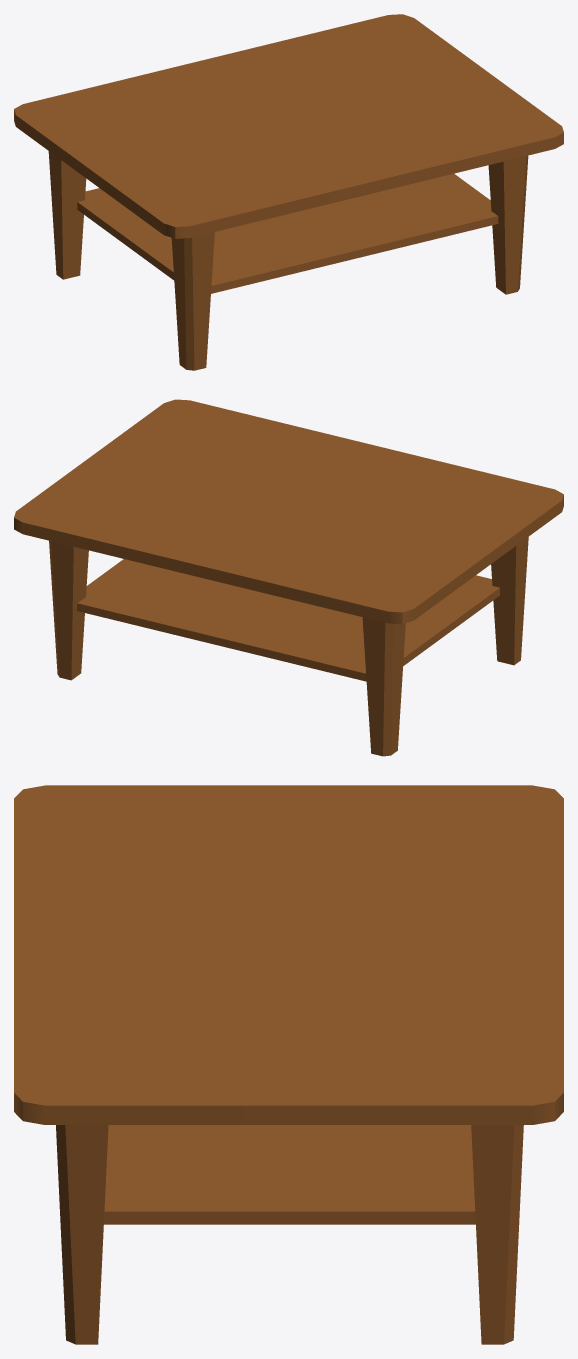
File: Coffee Table.fbx
The picture shows the model from 3 angles, top to bottom: view 1: azimuth 30°, elevation 25°; view 2: azimuth 150°, elevation 25°; view 3: azimuth 270°, elevation 25°; orthographic projection. The views are drawn at different scales.
Parts seen in each view (by area): view 1: Coffee_table_surface_area, Coffee_table_2nd_floor, Coffee_table; view 2: Coffee_table_surface_area, Coffee_table_2nd_floor, Coffee_table; view 3: Coffee_table_surface_area, Coffee_table_2nd_floor, Coffee_table.
Boxes of the visible parts, left/top/right/bottom form: Coffee_table_surface_area: left=14, top=14, right=563, bottom=238; Coffee_table_2nd_floor: left=77, top=173, right=498, bottom=293; Coffee_table: left=48, top=151, right=528, bottom=370; Coffee_table_surface_area: left=14, top=399, right=563, bottom=624; Coffee_table_2nd_floor: left=77, top=559, right=500, bottom=681; Coffee_table: left=49, top=537, right=528, bottom=756; Coffee_table_surface_area: left=14, top=785, right=563, bottom=1124; Coffee_table_2nd_floor: left=104, top=1125, right=475, bottom=1224; Coffee_table: left=56, top=1125, right=523, bottom=1344.
Bounding box in the file's own units: 7.19 × 2.78 × 5.22.
